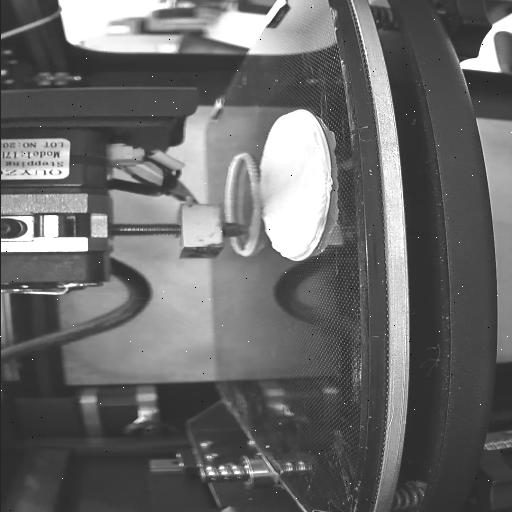over_extrusion: (269, 242, 315, 262)
